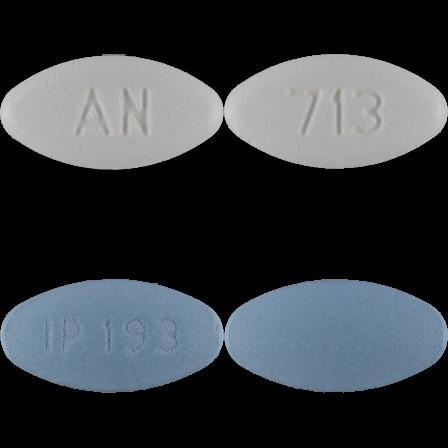0904-6184: (0, 0, 224, 224)
